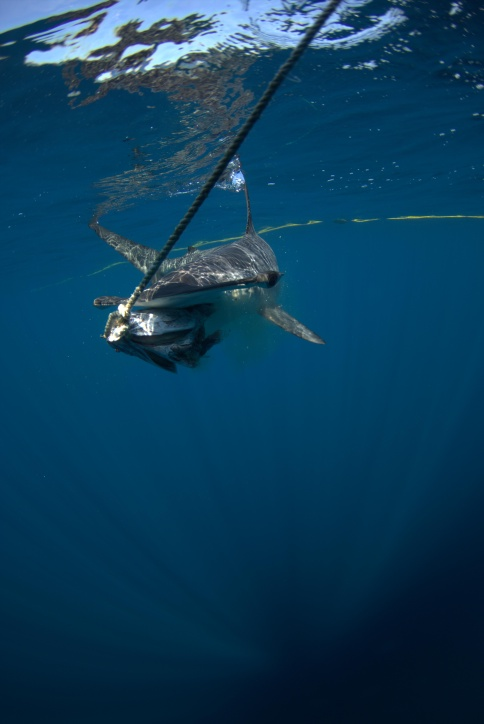Hammer: (69, 204, 384, 401)
